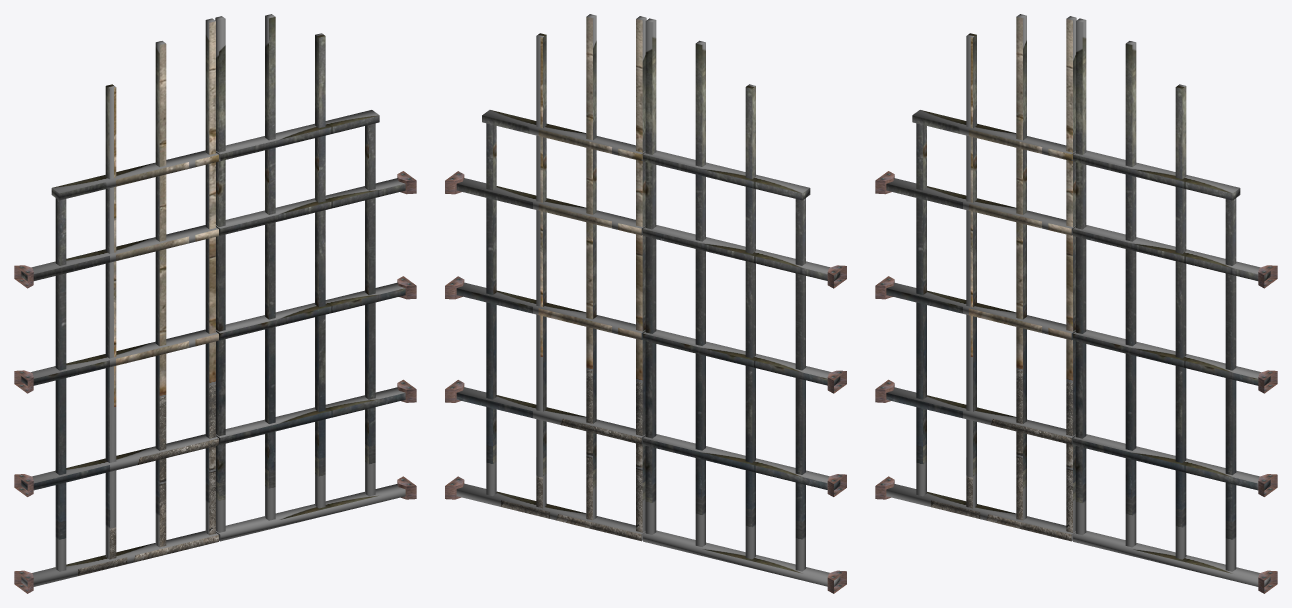
File: DoorIronGate.fbx
3 renders of one model, left to right at view 1: azimuth 30°, elevation 25°; view 2: azimuth 150°, elevation 25°; view 3: azimuth 330°, elevation 25°, orthographic.
Parts seen in each view (by area): view 1: Iron-Gate Left, Iron-Gate Right, Doorstuff; view 2: Iron-Gate Left, Iron-Gate Right, Doorstuff; view 3: Iron-Gate Right, Iron-Gate Left, Doorstuff.
Part boxes in pixels (x1=…): Iron-Gate Left: x1=21, y1=18, x2=218, y2=586; Iron-Gate Right: x1=215, y1=14, x2=405, y2=541; Doorstuff: x1=14, y1=171, x2=416, y2=593; Iron-Gate Left: x1=643, y1=18, x2=840, y2=586; Iron-Gate Right: x1=456, y1=14, x2=646, y2=541; Doorstuff: x1=445, y1=171, x2=846, y2=593; Iron-Gate Right: x1=1073, y1=18, x2=1270, y2=586; Iron-Gate Left: x1=886, y1=14, x2=1076, y2=541; Doorstuff: x1=875, y1=171, x2=1277, y2=593.
Bounding box in the file's own units: 29.19 × 37.46 × 1.71.
Materials: 1 (1 with a texture image).
